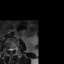CCS_normal: (10, 46, 12, 54)
LFS_normal: (13, 46, 15, 52)
LLS_normal: (12, 46, 13, 52)
RFS_normal: (7, 46, 9, 52)
RLS_normal: (9, 46, 10, 52)
